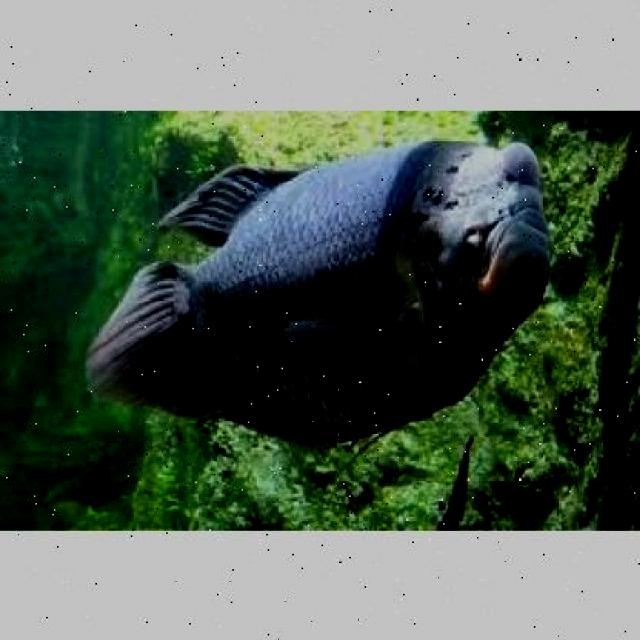gurame: (90, 130, 552, 439)
